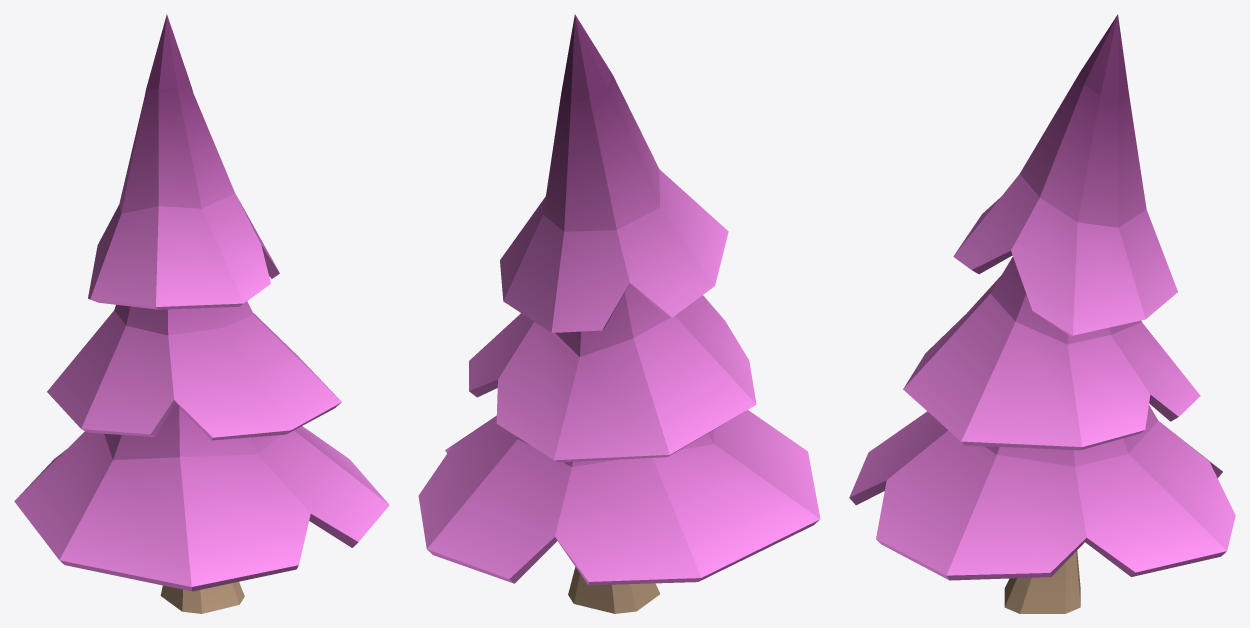
The model's file is SpringPine3.fbx.
3 views of the same model, side by side, from view 1: azimuth 30°, elevation 25°; view 2: azimuth 150°, elevation 25°; view 3: azimuth 270°, elevation 25° (orthographic). The views are drawn at different scales.
Parts seen in each view (by area): view 1: SpringPine3; view 2: SpringPine3; view 3: SpringPine3.
Part boxes in pixels (x1,y1,x2,y2): SpringPine3: (14, 14, 389, 613); SpringPine3: (418, 14, 820, 613); SpringPine3: (849, 14, 1235, 613).
Size of the model in its own units: 366 by 613 by 368.
